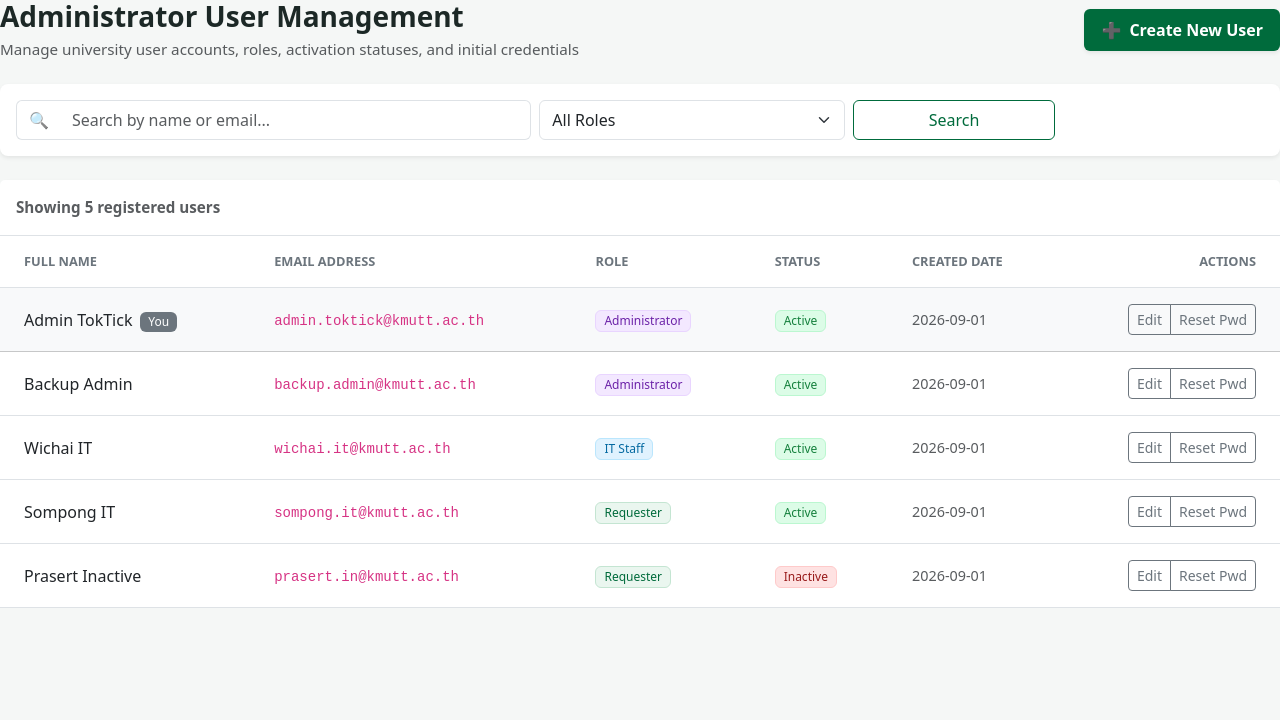
Test: UserManagement Component Suite (Issue 15) › UI-ADM-05: opens Reset Password modal, validates complexity, and shows success message
Click the button with test id "btn-reset-pwd-4" at (1213, 512), box [1170,496,1256,527]
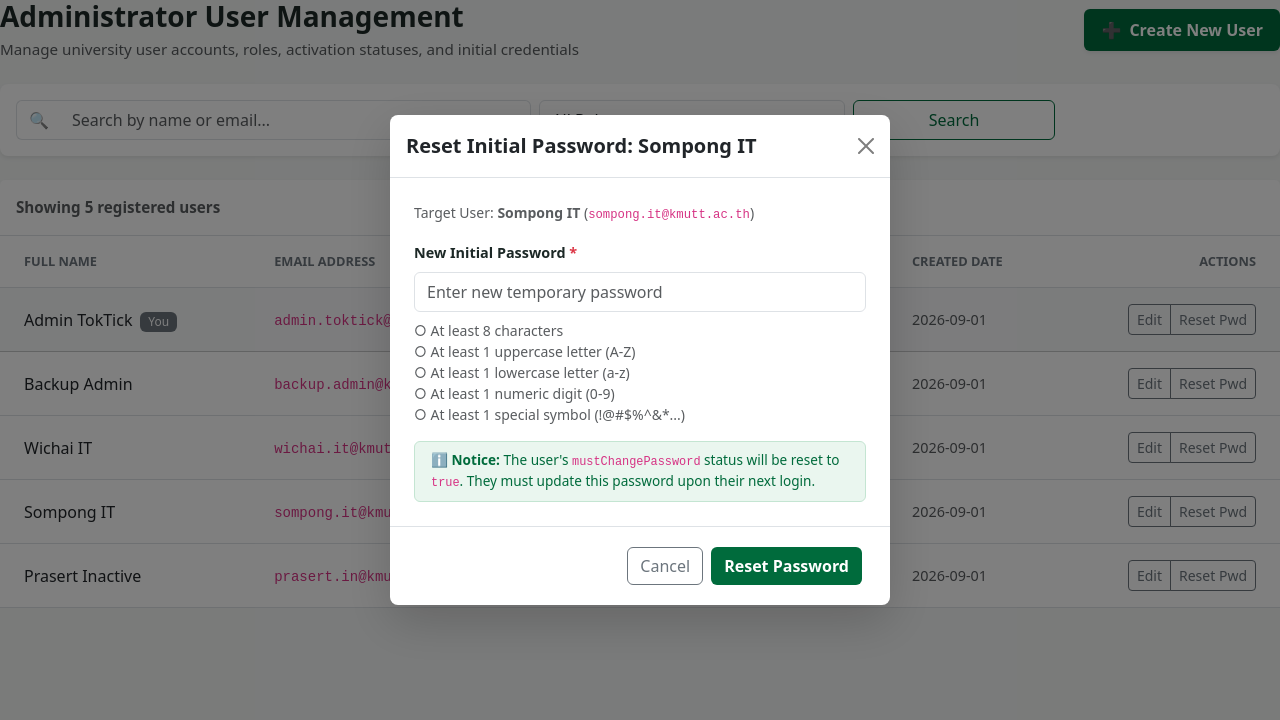
Check: the heading "Reset Initial Password: Sompong IT" is shown, box [406,131,757,161]
# Type new password
Type "NewTempPassword456!" into the password field with test id "input-reset-password" at (640, 292), box [414,272,866,312]
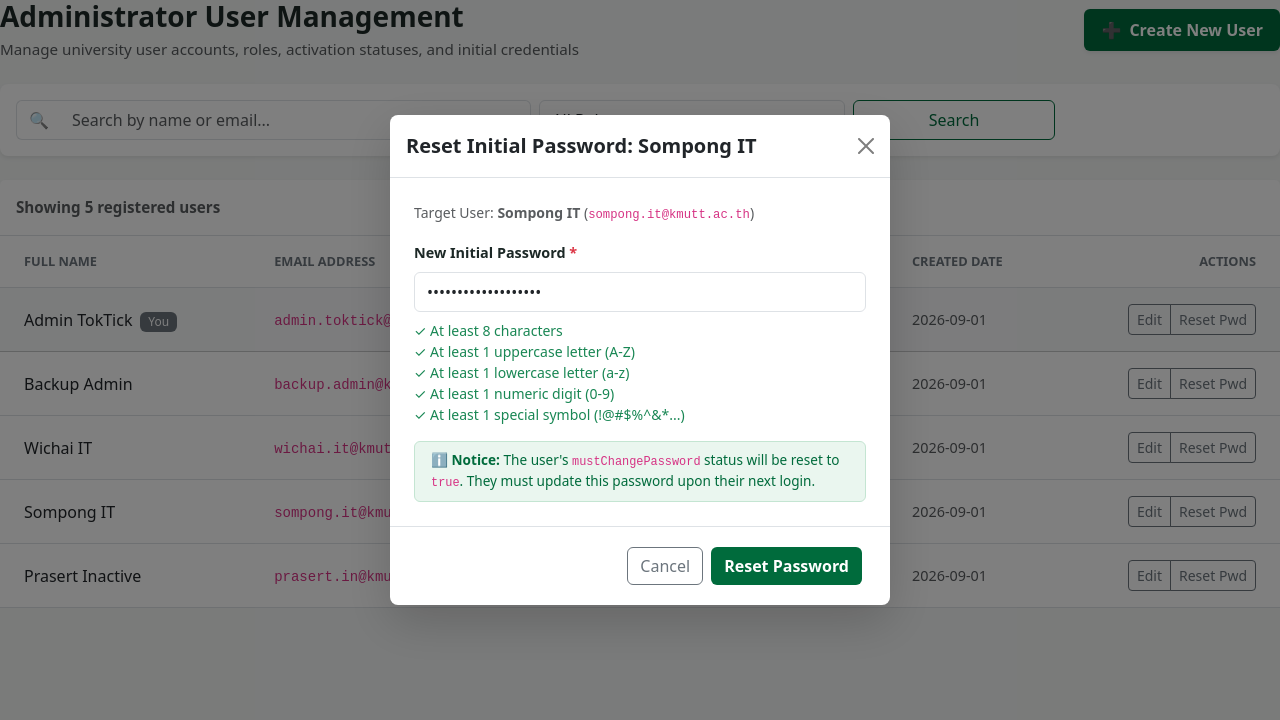
Click the button with test id "btn-submit-reset" at (787, 566), box [711,547,862,585]
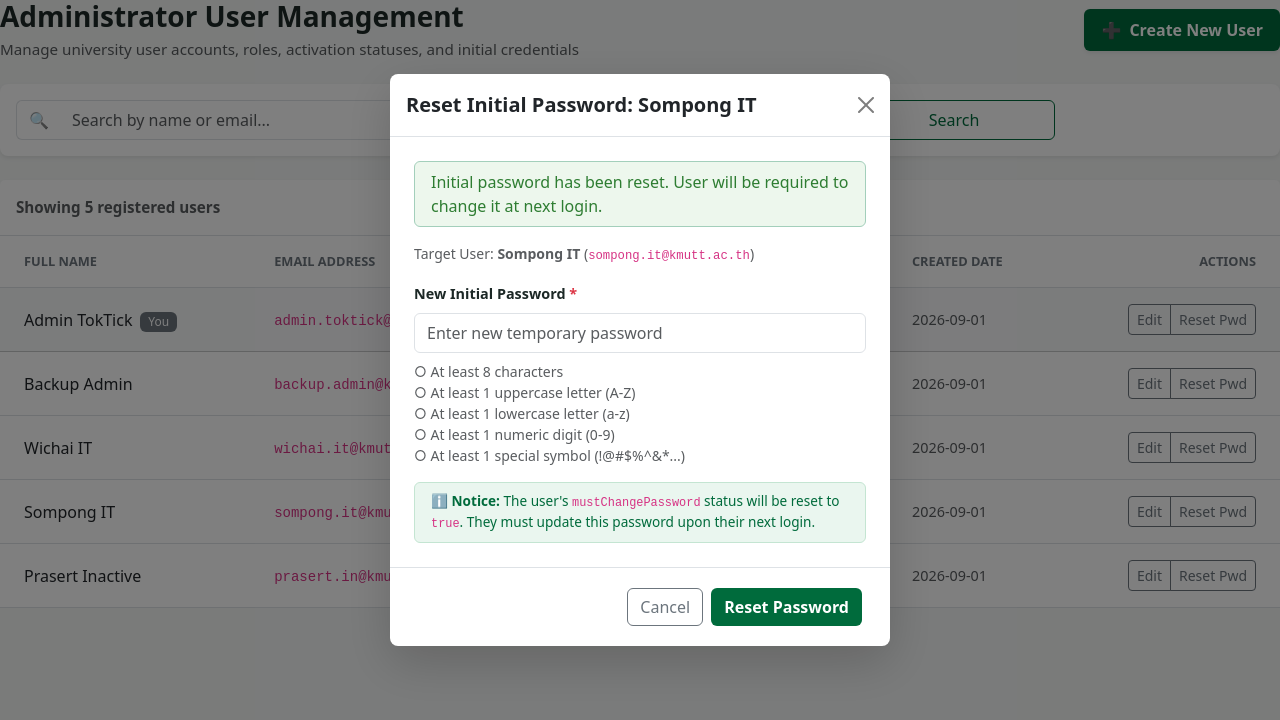
Check: the text with test id "reset-success-alert" shows "Initial password has been reset", box [431,171,848,217]
